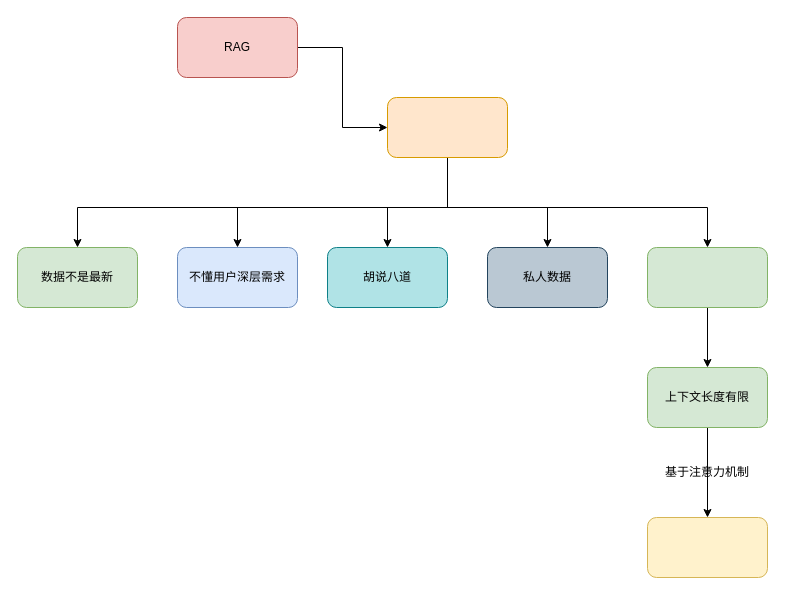
Some shapes in this 795 by 595 pixel diagram are drawn without their labels. The centre of each missing label's shape, as x and y in pixels:
token: point 707,277
计算量倍增: point 707,547
语言大模型缺陷: point 447,127
